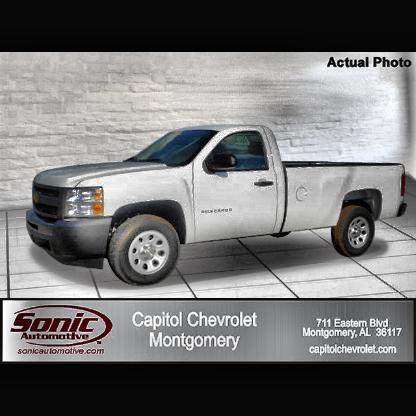Chevrolet Silverado 1500 Regular Cab 2012: (26, 126, 408, 288)
